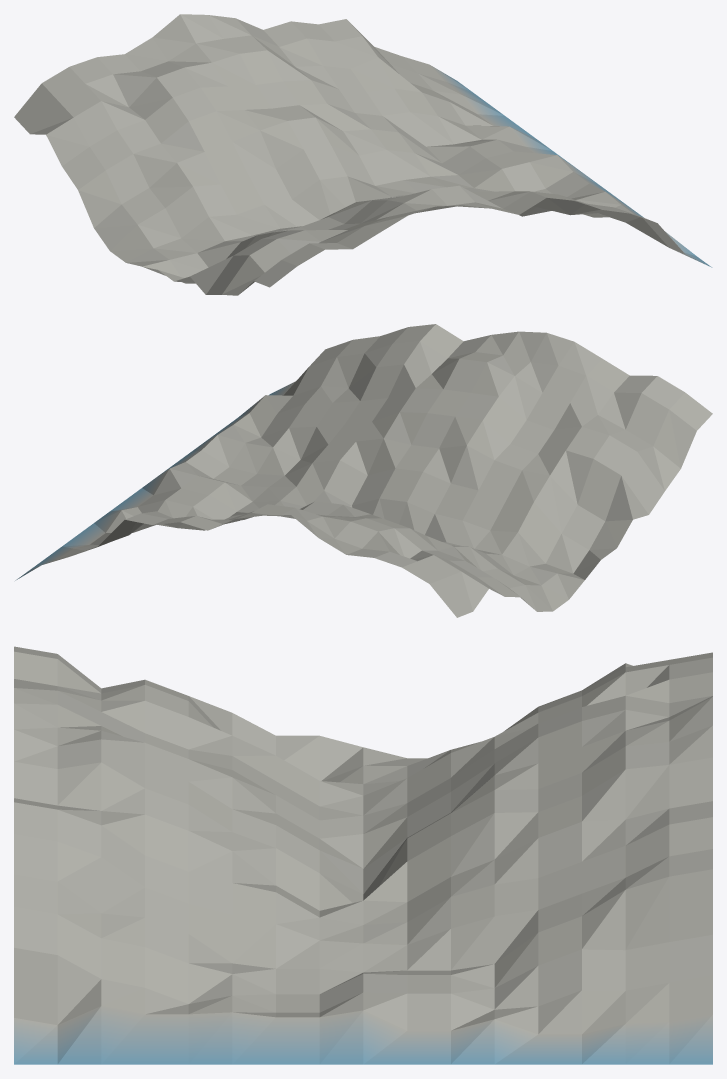
The picture shows the model from 3 angles, top to bottom: view 1: azimuth 30°, elevation 25°; view 2: azimuth 150°, elevation 25°; view 3: azimuth 270°, elevation 25°; orthographic projection. The views are drawn at different scales.
Bounding box in the file's own units: 32 × 9.26 × 32.
